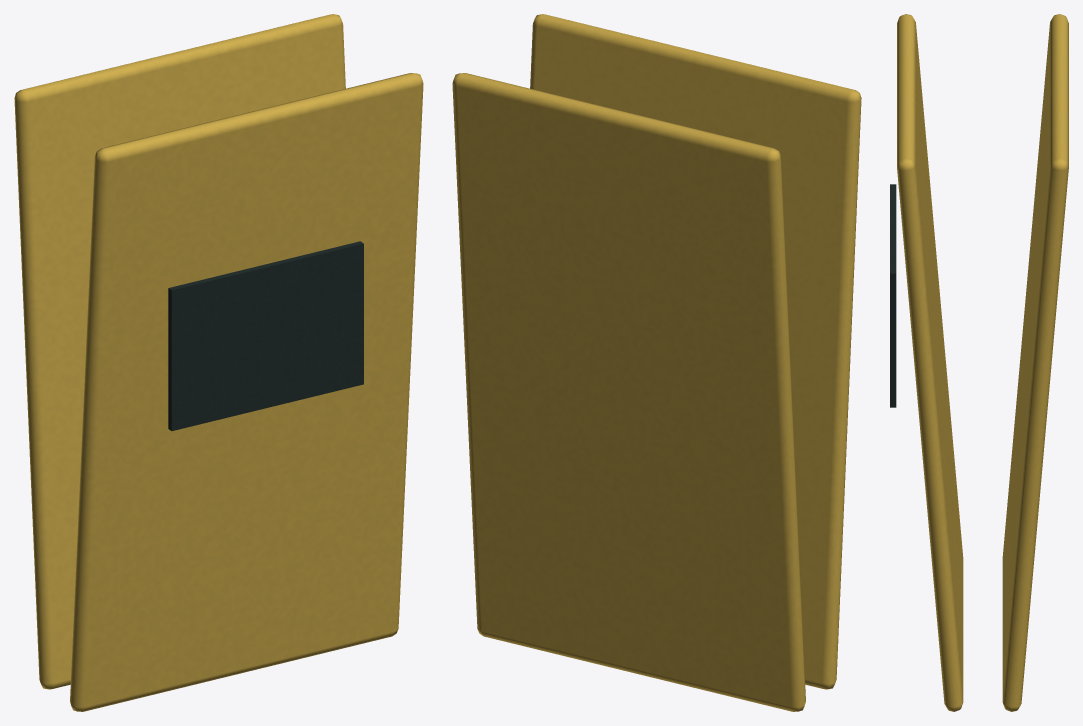
The model's file is detail-wet-sign-1.glb.
The picture shows the model from 3 angles, left to right: view 1: azimuth 30°, elevation 25°; view 2: azimuth 150°, elevation 25°; view 3: azimuth 270°, elevation 25°; orthographic projection. The views are drawn at different scales.
Visible parts, largest first — view 1: folded_sign (×2), label_caution; view 2: folded_sign (×2); view 3: folded_sign (×2), label_caution.
Boxes of the visible parts, x1,y1,x2,y2 form: folded_sign (×2): (14, 14, 423, 711); label_caution: (168, 241, 363, 430); folded_sign (×2): (452, 14, 861, 711); folded_sign (×2): (897, 14, 1068, 711); label_caution: (890, 184, 896, 407).
Size of the model in its own units: 0.34 by 0.5781 by 0.1694.
Materials: 2 (2 with a texture image).
